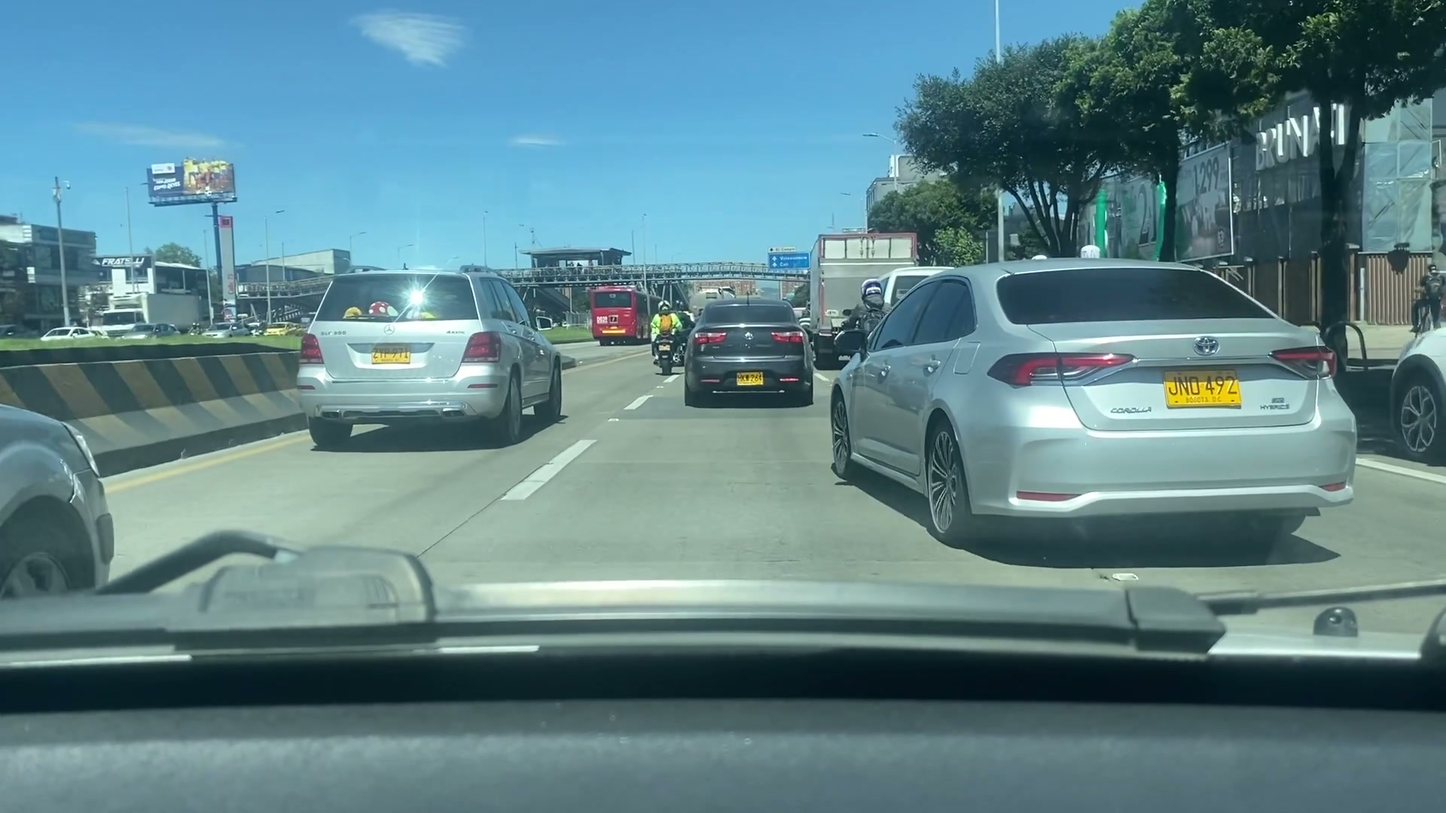bus: (590, 286, 666, 347)
car: (811, 266, 1352, 543), (297, 269, 563, 442), (3, 398, 117, 609), (680, 295, 814, 405), (1386, 310, 1446, 470)
motorcycle: (651, 331, 684, 376)
person: (845, 279, 893, 358), (646, 295, 681, 371)
truck: (805, 232, 922, 358)
